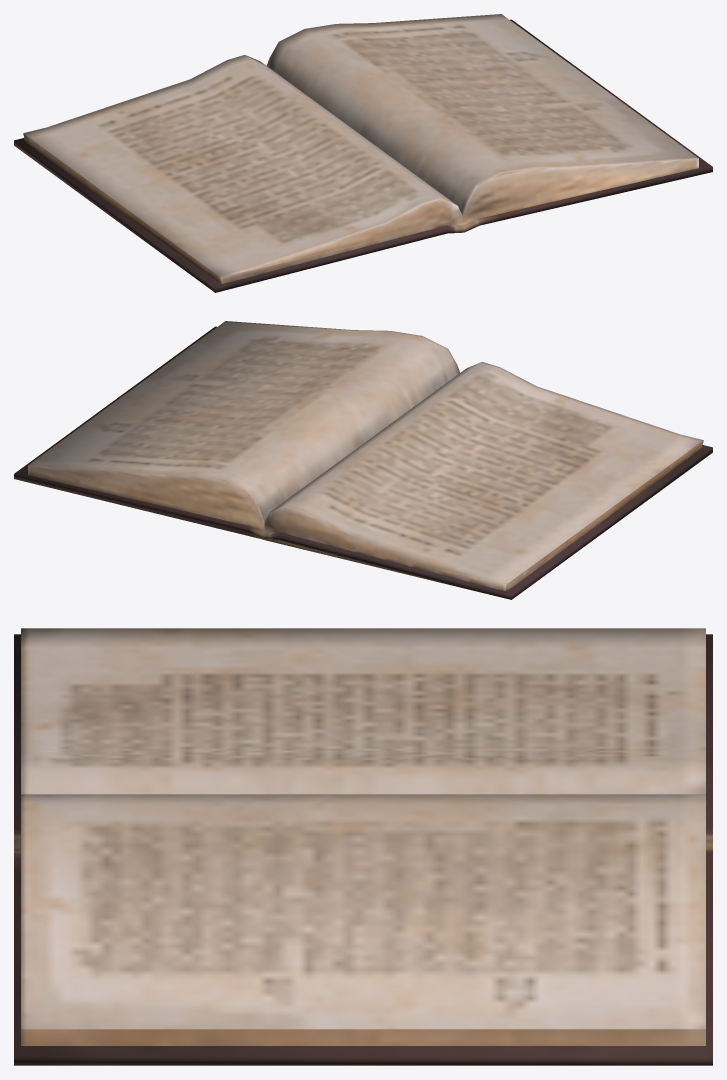
File: Book3.fbx
3 renders of one model, top to bottom at view 1: azimuth 30°, elevation 25°; view 2: azimuth 150°, elevation 25°; view 3: azimuth 270°, elevation 25°, orthographic. The views are drawn at different scales.
Parts seen in each view (by area): view 1: Book Modulo 02; view 2: Book Modulo 02; view 3: Book Modulo 02.
Part boxes in pixels (x1,y1,x2,y2): Book Modulo 02: (14, 14, 712, 292); Book Modulo 02: (14, 321, 712, 599); Book Modulo 02: (14, 628, 712, 1065).
Size of the model in its own units: 189 by 17.48 by 132.
